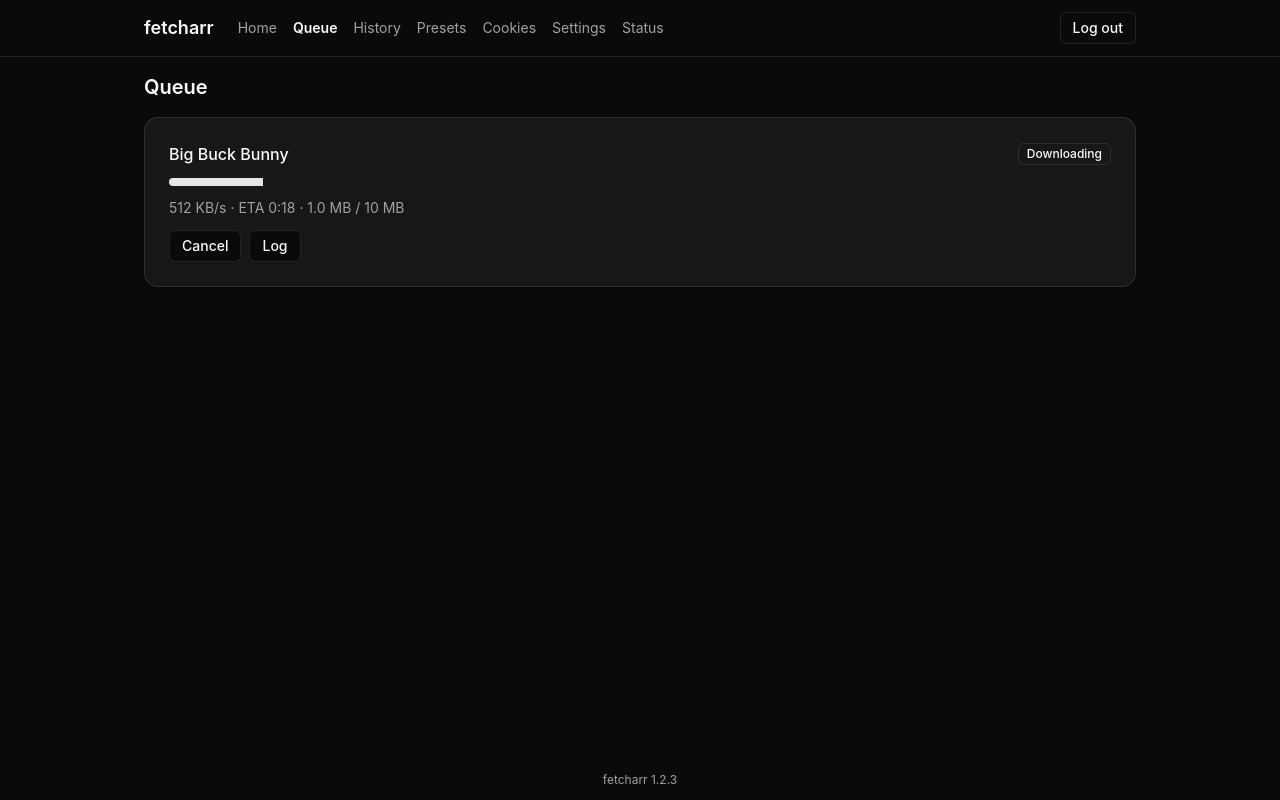
Test: QueuePage › opens the log drawer
This screenshot has width=1280, height=800.
Click the button "Log". click: (275, 246)
box: left=250, top=230, right=300, bottom=262
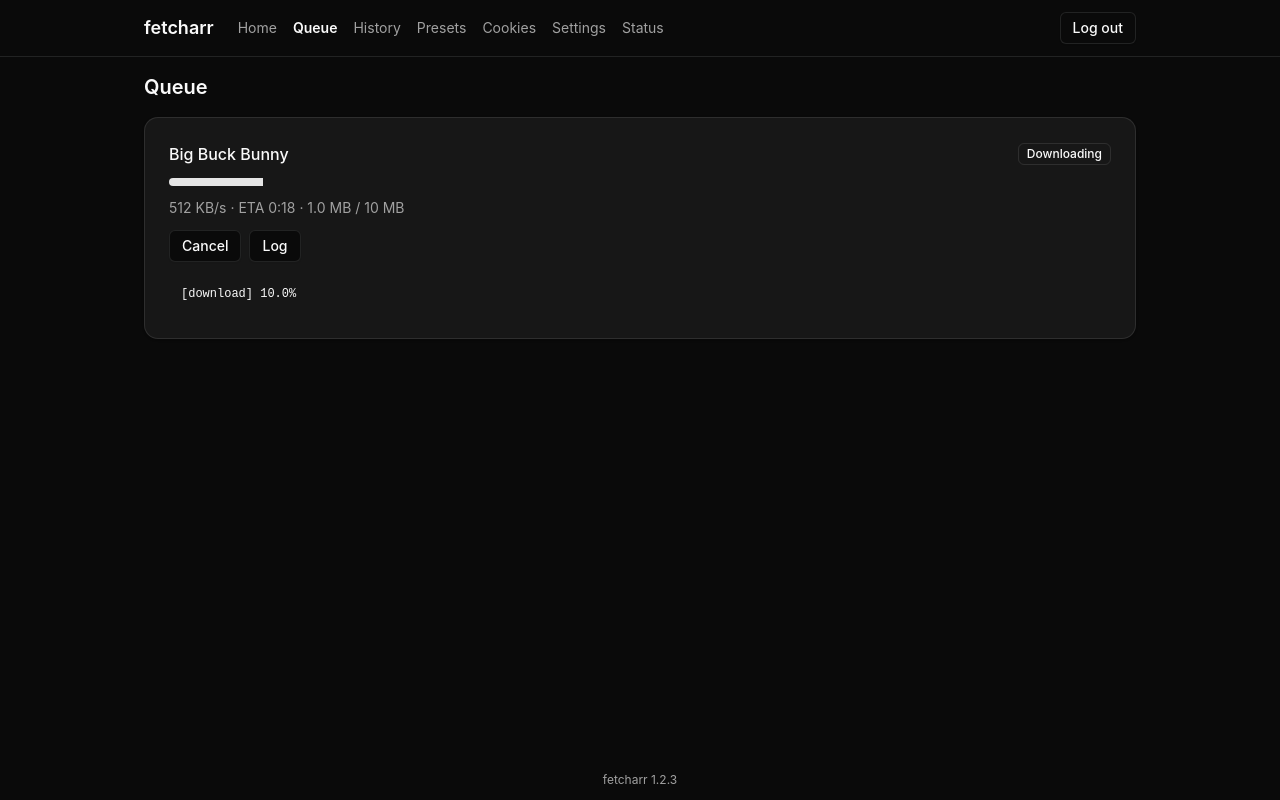
Check: the element named "Log" reads "[download] 10.0%", box left=181, top=287, right=296, bottom=301
